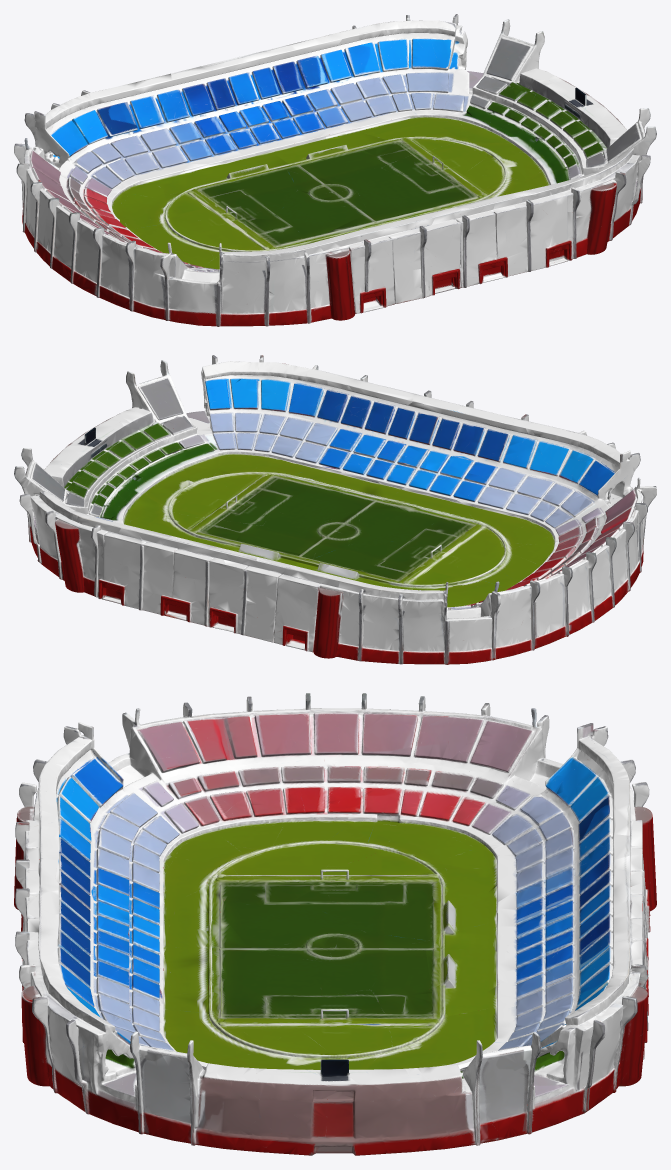
Rendered from mapa_estadio-opt.glb.
3 views of the same model, one above another, from view 1: azimuth 30°, elevation 25°; view 2: azimuth 150°, elevation 25°; view 3: azimuth 270°, elevation 25° (orthographic). The views are drawn at different scales.
Parts seen in each view (by area): view 1: Mesh_0; view 2: Mesh_0; view 3: Mesh_0.
Boxes of the visible parts, x1=… form: Mesh_0: x1=14, y1=14, x2=656, y2=326; Mesh_0: x1=14, y1=355, x2=656, y2=664; Mesh_0: x1=14, y1=693, x2=656, y2=1155.
Size of the model in its own units: 1.9 by 0.2765 by 1.41.
Materials: 1 (1 with a texture image).
